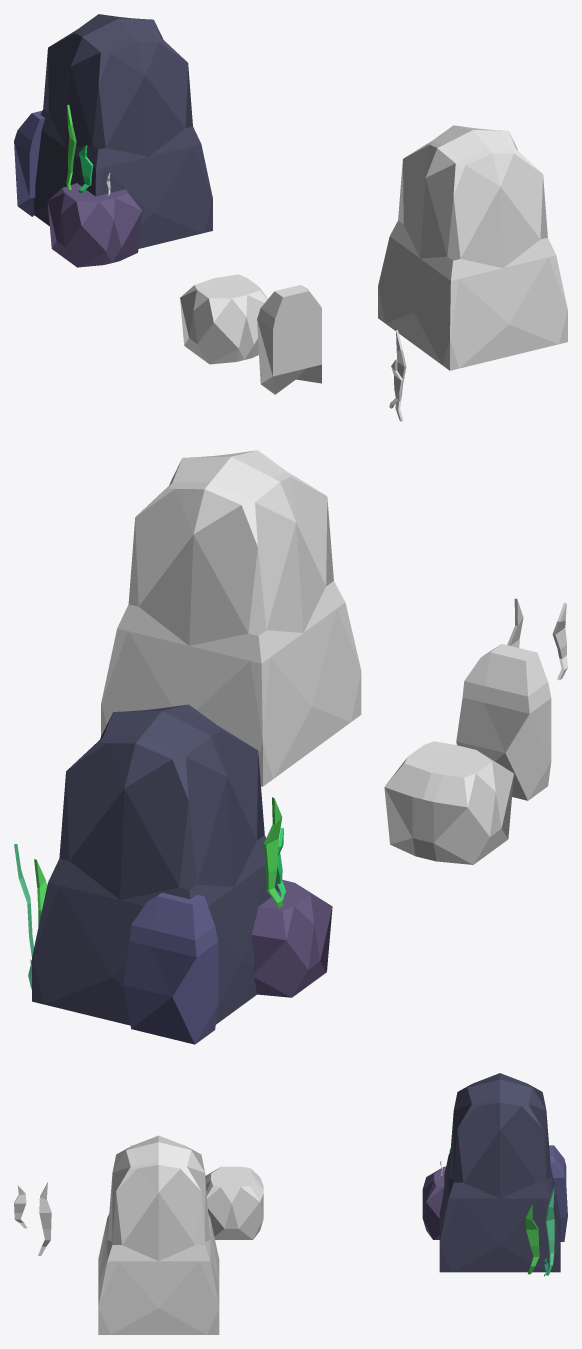
File: Rocks.fbx
3 renders of one model, top to bottom at view 1: azimuth 30°, elevation 25°; view 2: azimuth 150°, elevation 25°; view 3: azimuth 270°, elevation 25°, orthographic. The views are drawn at different scales.
Parts seen in each view (by area): view 1: Big Rock.001, Big Rock, Little Rock, Little Rock 1, Long S Rock 1, Long S Rock.001; view 2: Big Rock.001, Big Rock, Little Rock 1, Long S Rock.001, Long S Rock 1, Little Rock, Kelp 2; view 3: Big Rock.001, Big Rock, Little Rock 1, Little Rock, Long S Rock.001, Kelp 2.001, Kelp 2.002, Kelp 2.003, Kelp 1.001.
Part boxes in pixels (left/top/right/bottom): Big Rock.001: left=378, top=125, right=567, bottom=370; Big Rock: left=33, top=14, right=212, bottom=248; Little Rock: left=47, top=183, right=141, bottom=267; Little Rock 1: left=180, top=274, right=267, bottom=364; Long S Rock 1: left=257, top=285, right=321, bottom=394; Long S Rock.001: left=14, top=111, right=44, bottom=216; Big Rock.001: left=101, top=450, right=361, bottom=786; Big Rock: left=32, top=704, right=279, bottom=1025; Little Rock 1: left=384, top=741, right=513, bottom=864; Long S Rock.001: left=123, top=892, right=218, bottom=1044; Long S Rock 1: left=456, top=644, right=551, bottom=800; Little Rock: left=251, top=880, right=332, bottom=997; Kelp 2: left=263, top=797, right=283, bottom=907; Big Rock.001: left=98, top=1135, right=219, bottom=1334; Big Rock: left=439, top=1073, right=560, bottom=1272; Little Rock 1: left=205, top=1166, right=263, bottom=1239; Little Rock: left=422, top=1166, right=445, bottom=1239; Long S Rock.001: left=549, top=1145, right=567, bottom=1241; Kelp 2.001: left=38, top=1182, right=51, bottom=1255; Kelp 2.002: left=525, top=1204, right=539, bottom=1274; Kelp 2.003: left=545, top=1187, right=554, bottom=1275; Kelp 1.001: left=14, top=1185, right=27, bottom=1228.
Size of the model in its own units: 1480 by 980 by 2856.
